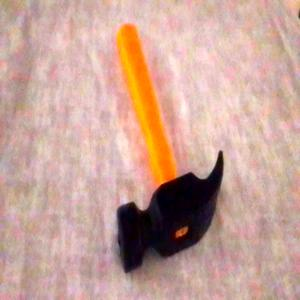martelo: (112, 21, 226, 277)
